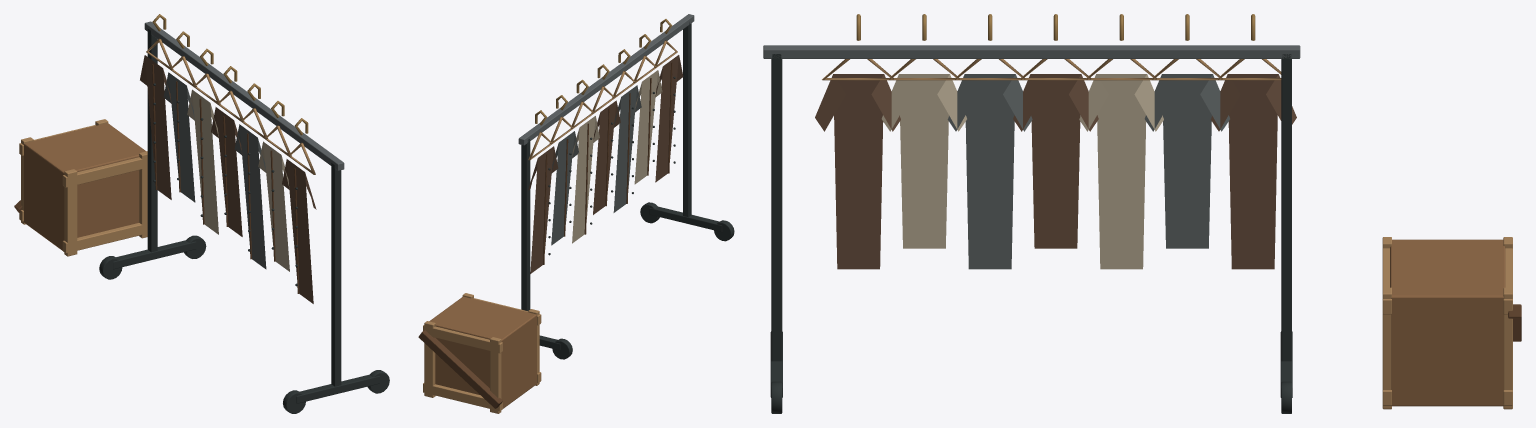
File: SM_CP_BackstageWardrobe.fbx
3 renders of one model, left to right at view 1: azimuth 30°, elevation 25°; view 2: azimuth 150°, elevation 25°; view 3: azimuth 270°, elevation 25°, orthographic. The views are drawn at different scales.
Visible parts, largest first — view 1: SM_CP_BackstageWardrobe; view 2: SM_CP_BackstageWardrobe; view 3: SM_CP_BackstageWardrobe.
Boxes of the visible parts, x1=… form: SM_CP_BackstageWardrobe: x1=14, y1=14, x2=389, y2=413; SM_CP_BackstageWardrobe: x1=418, y1=14, x2=734, y2=413; SM_CP_BackstageWardrobe: x1=763, y1=14, x2=1521, y2=413.
Size of what is drawn, in the model's own units: 127 by 565 by 304.
